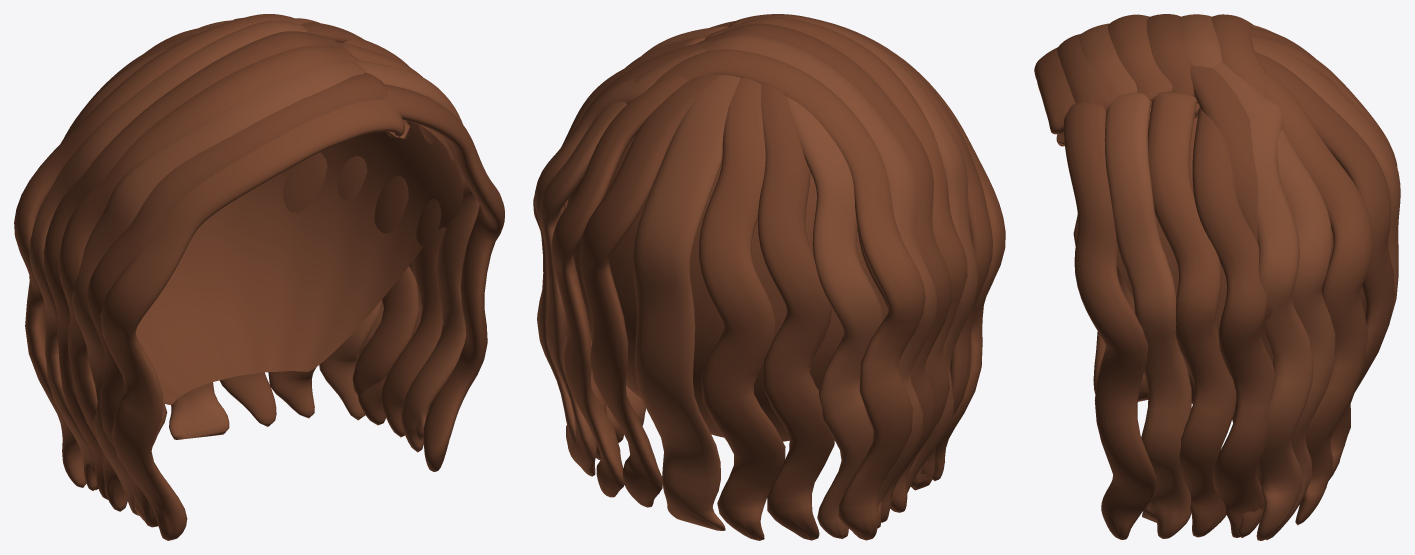
File: Feminine-Feminine-curls-hair261-1726d578.glb
3 views of the same model, side by side, from view 1: azimuth 30°, elevation 25°; view 2: azimuth 150°, elevation 25°; view 3: azimuth 270°, elevation 25° (orthographic).
Parts seen in each view (by area): view 1: 226 hair / Hair / sculpted 0.001, 226 hair / Hair / sculpted 1.001, 226 hair / Hair / sculpted 1.002, 226 hair / Hair / sculpted 2.001; view 2: 226 hair / Hair / sculpted 0.001, 226 hair / Hair / sculpted 2.001, 226 hair / Hair / sculpted 1.002, 226 hair / Hair / sculpted 1.001; view 3: 226 hair / Hair / sculpted 1.002, 226 hair / Hair / sculpted 2.001, 226 hair / Hair / sculpted 0.001, 226 hair / Hair / sculpted 1.001.
Part boxes in pixels (x1=…): 226 hair / Hair / sculpted 0.001: x1=14, y1=14, x2=445, y2=540; 226 hair / Hair / sculpted 1.001: x1=135, y1=122, x2=463, y2=404; 226 hair / Hair / sculpted 1.002: x1=43, y1=18, x2=504, y2=527; 226 hair / Hair / sculpted 2.001: x1=29, y1=18, x2=479, y2=515; 226 hair / Hair / sculpted 0.001: x1=551, y1=17, x2=1005, y2=540; 226 hair / Hair / sculpted 2.001: x1=534, y1=15, x2=978, y2=538; 226 hair / Hair / sculpted 1.002: x1=533, y1=14, x2=992, y2=540; 226 hair / Hair / sculpted 1.001: x1=567, y1=134, x2=887, y2=441; 226 hair / Hair / sculpted 1.002: x1=1057, y1=14, x2=1394, y2=539; 226 hair / Hair / sculpted 2.001: x1=1079, y1=14, x2=1400, y2=540; 226 hair / Hair / sculpted 0.001: x1=1034, y1=14, x2=1397, y2=537; 226 hair / Hair / sculpted 1.001: x1=1117, y1=115, x2=1365, y2=422.
Size of the model in its own units: 1.1 by 1.17 by 0.8699.
